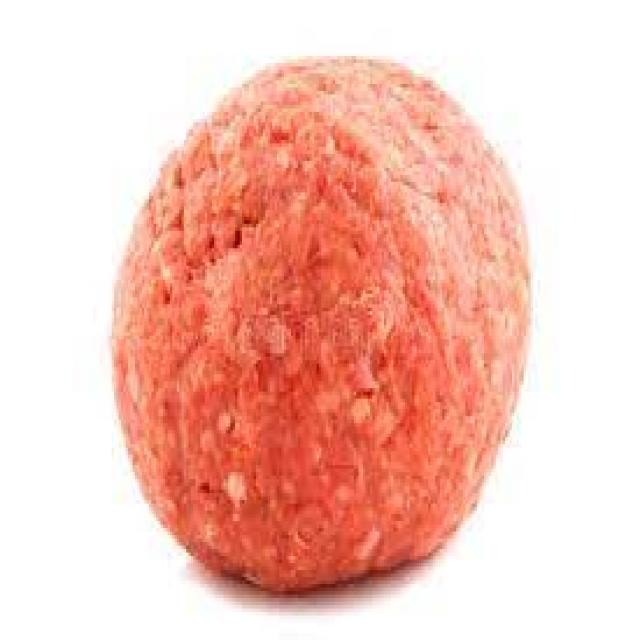Meatball: (93, 38, 550, 613)
